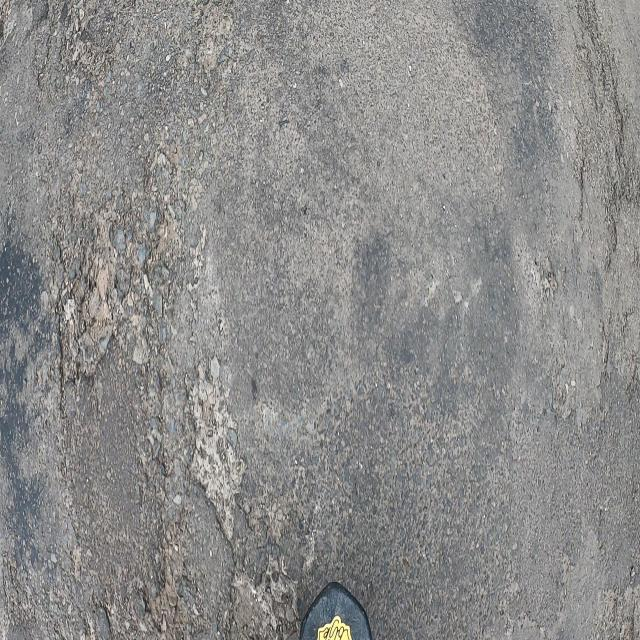Lubang: (55, 184, 121, 382), (122, 149, 185, 323), (190, 358, 245, 540)
